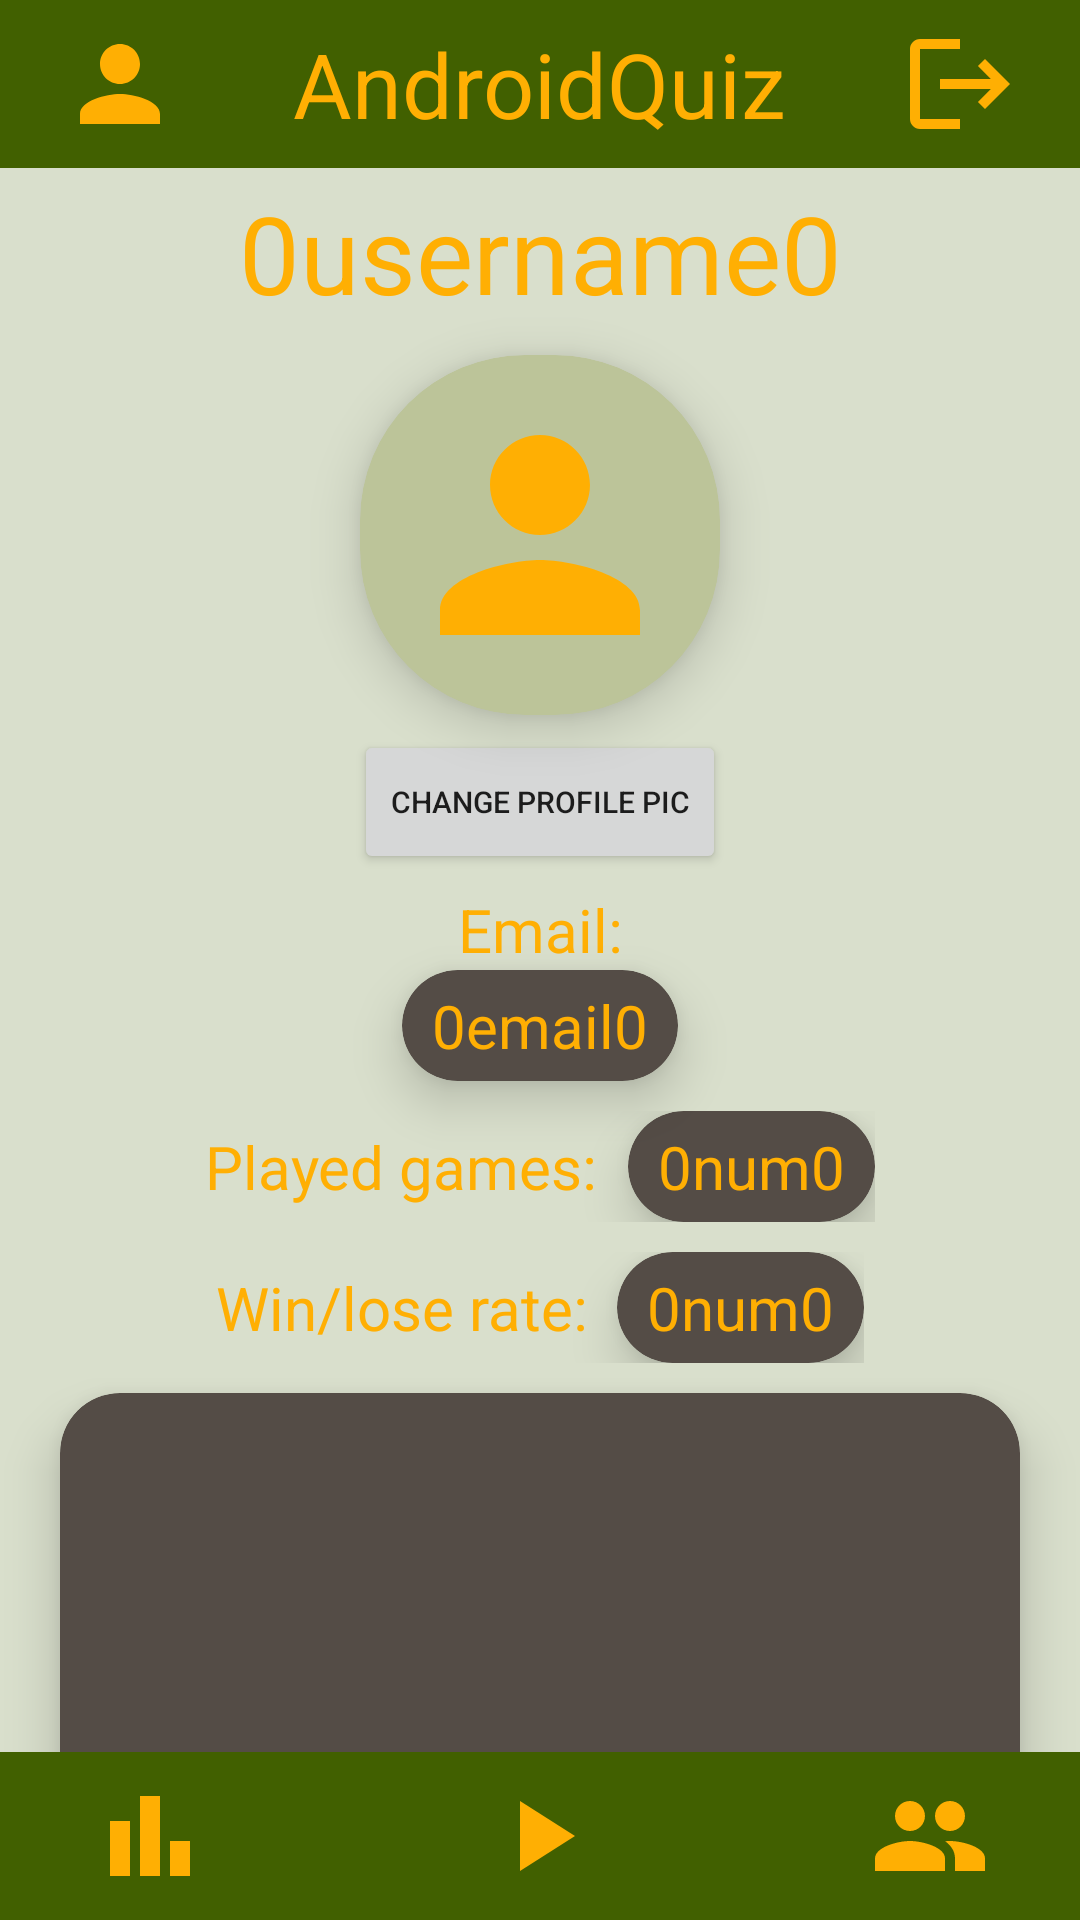

Where icons sit on this 1080x1920 app screen, as (x1, y1, x2, y2):
bar chart: (110, 1796, 190, 1876)
people: (875, 1801, 985, 1871)
play arrow: (520, 1801, 575, 1871)
